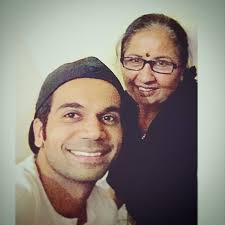Bad: (14, 14, 198, 225)
